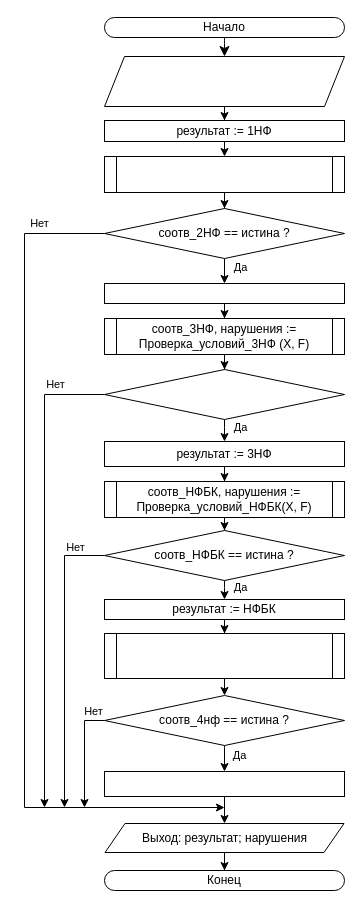
Image size: 362x908. Some labels were removed from this diagram. The centre of each missing label's shape, as x and y in pixels:
"Вход: X - мн-во атрибутов; F - мн-во ФЗ; F_m - мн-во МФЗ" belongs at [224,81].
"результат := 2НФ" belongs at [224,293].
"результат := 4НФ" belongs at [224,783].
"соотв_2НФ, нарушения := Проверка_условий_2НФ (X, F)" belongs at [224,174].
"соотв_3НФ == истина ?" belongs at [224,394].
"соотв_4НФ, нарушения := Проверка_условий_4НФ(X, F, F_m)" belongs at [224,655].
